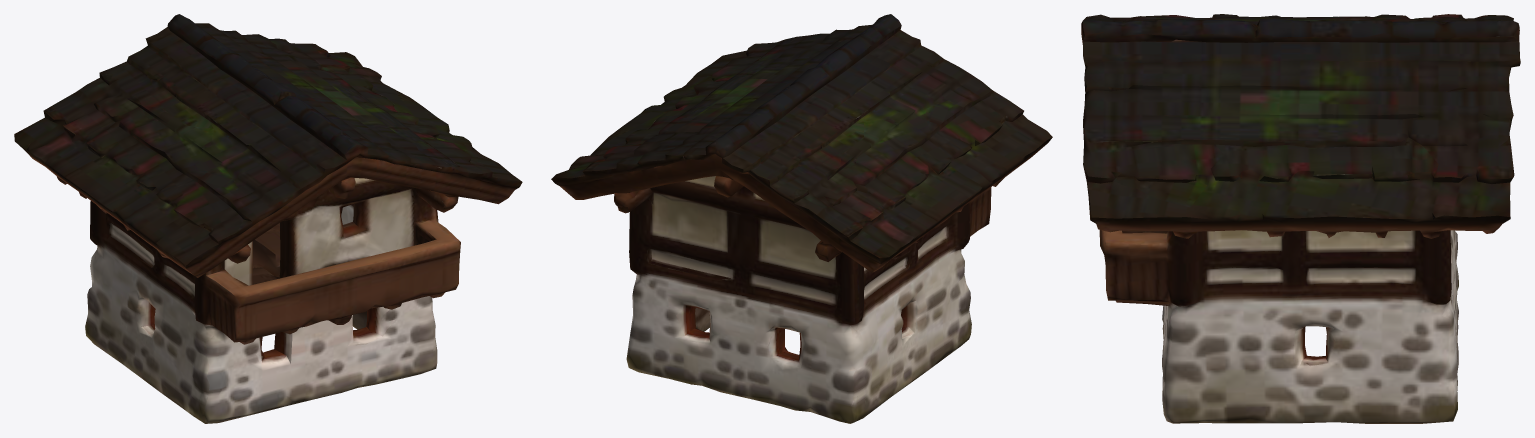
File: village_mountain_a.glb
3 views of the same model, side by side, from view 1: azimuth 30°, elevation 25°; view 2: azimuth 150°, elevation 25°; view 3: azimuth 270°, elevation 25° (orthographic). The views are drawn at different scales.
Parts seen in each view (by area): view 1: world; view 2: world; view 3: world.
Boxes of the visible parts, left/top/right/bottom form: world: left=14, top=14, right=522, bottom=423; world: left=551, top=14, right=1052, bottom=423; world: left=1081, top=14, right=1520, bottom=423.
Size of the model in its own units: 1 by 0.786 by 0.9274.
1 material, 1 textured.
